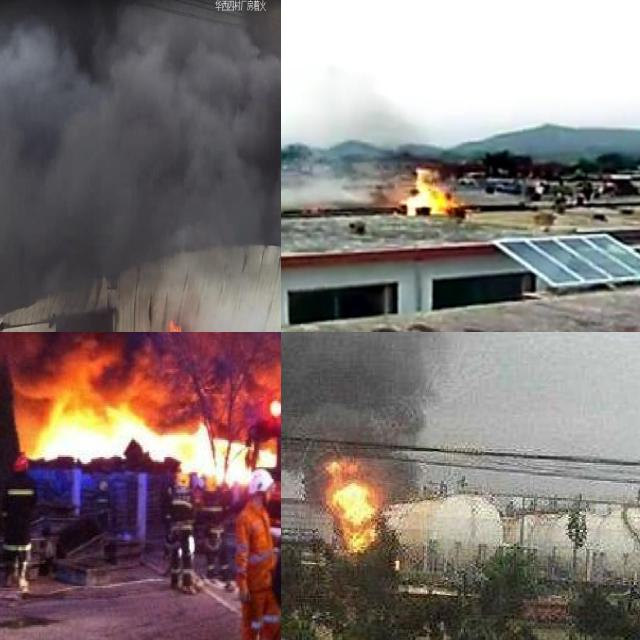fire: (28, 379, 274, 486), (322, 454, 383, 552), (399, 161, 463, 217), (167, 319, 193, 332)
smoke: (0, 12, 281, 235), (0, 332, 281, 413), (281, 332, 444, 458), (281, 167, 358, 204)
